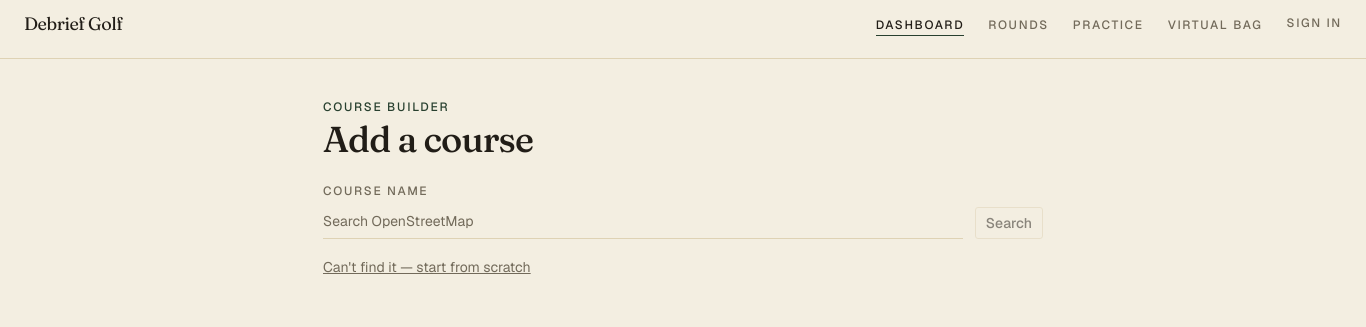
NewCoursePage › shows a search error
This screenshot has width=1366, height=327.
Type "Pinehurst" into the field with placeholder "Search OpenStreetMap" at (643, 221), box [323, 203, 963, 239]
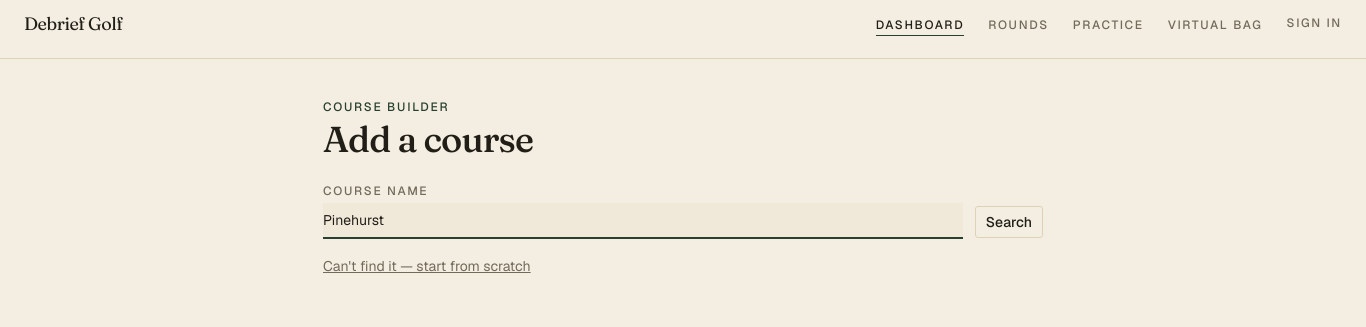
Click the button "Search" at (1009, 222), box [975, 206, 1043, 238]
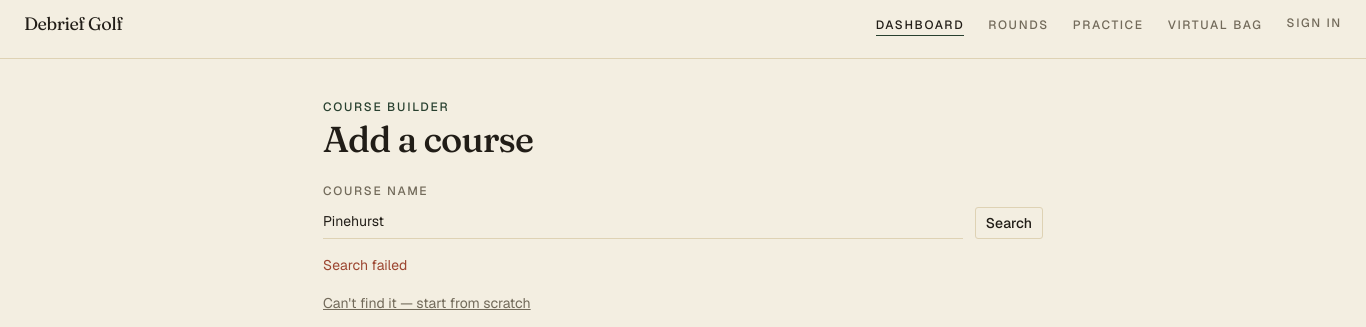
Expected: the message "Search failed" is shown, [323, 256, 407, 274]
